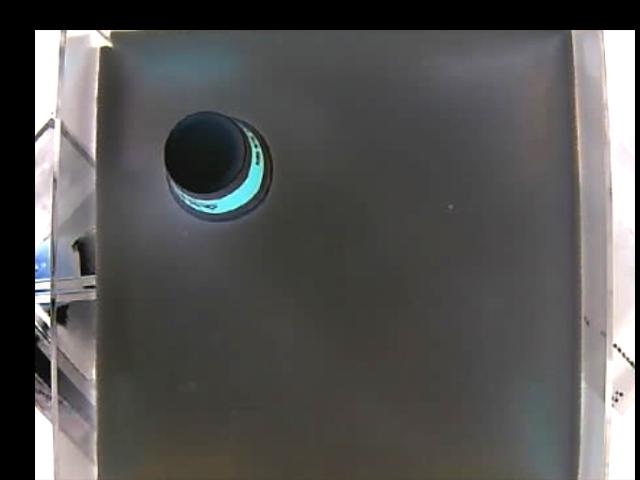Cup: (160, 108, 275, 227)
